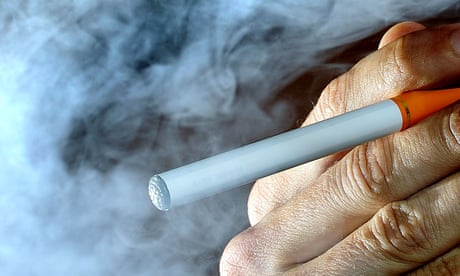cigarette: (146, 88, 458, 221)
